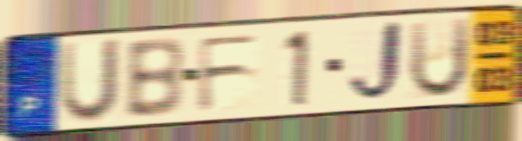1: (280, 27, 311, 109)
B: (122, 34, 187, 121)
F: (196, 31, 263, 115)
J: (344, 17, 406, 108)
U: (57, 35, 126, 127), (406, 14, 473, 102)
